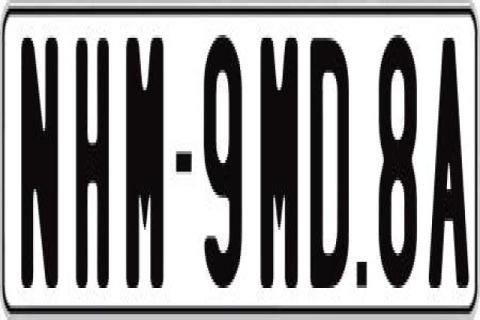0: (376, 27, 418, 286), (202, 35, 243, 291)
A: (426, 38, 458, 294)
D: (308, 29, 346, 297)
H: (76, 35, 113, 299)
M: (125, 35, 163, 285), (259, 32, 297, 282)
N: (20, 35, 63, 299)
